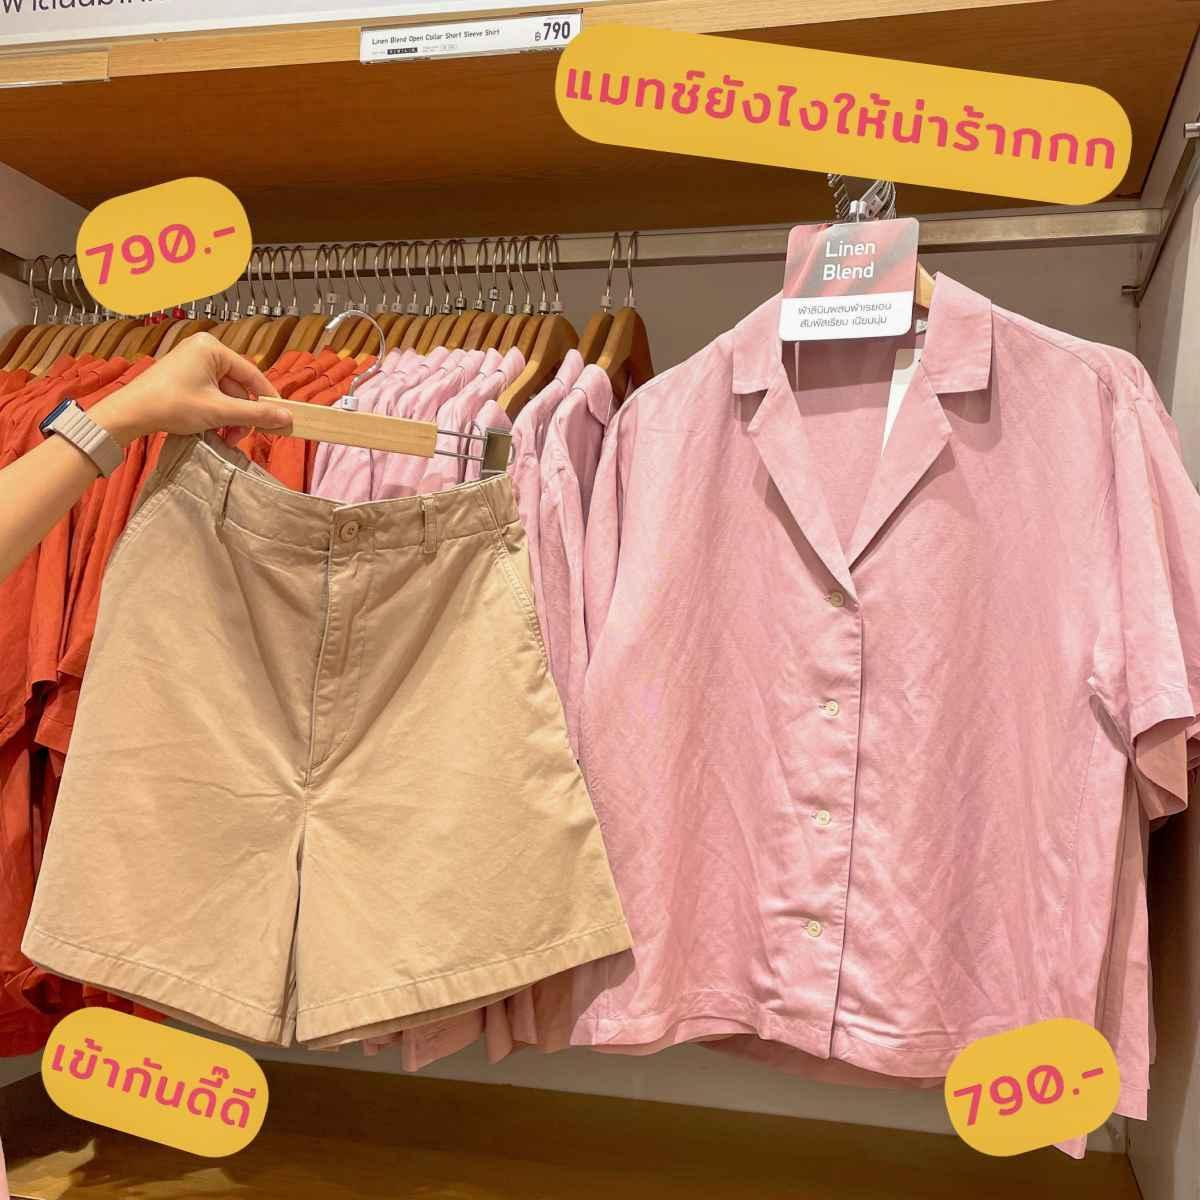shirt: (566, 302, 1185, 1058)
short: (49, 456, 630, 1044)
